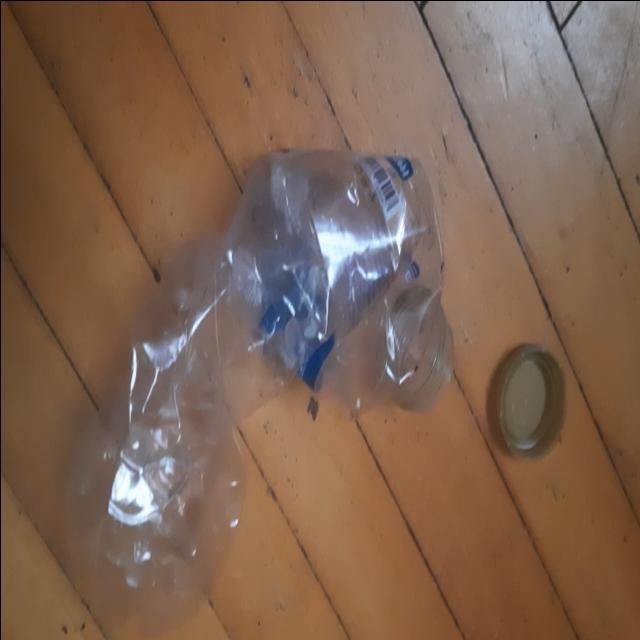Plastic: (104, 148, 448, 606)
